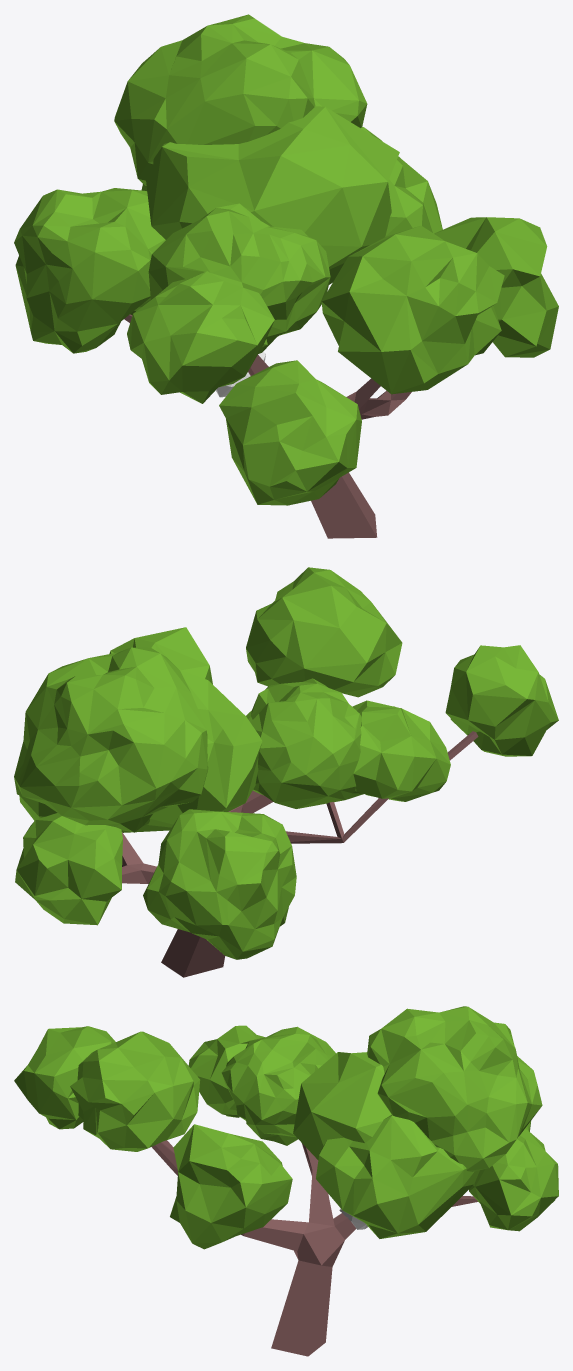
Rendered from DUB.fbx.
3 views of the same model, one above another, from view 1: azimuth 30°, elevation 25°; view 2: azimuth 150°, elevation 25°; view 3: azimuth 270°, elevation 25° (orthographic). The views are drawn at different scales.
Visible parts, largest first — view 1: Tree; view 2: Tree; view 3: Tree.
Boxes of the visible parts, box(x1,y1,x2,y2) form: Tree: box(14, 14, 558, 538); Tree: box(14, 567, 558, 977); Tree: box(14, 1006, 558, 1356).
Size of the model in its own units: 437 by 430 by 650.
